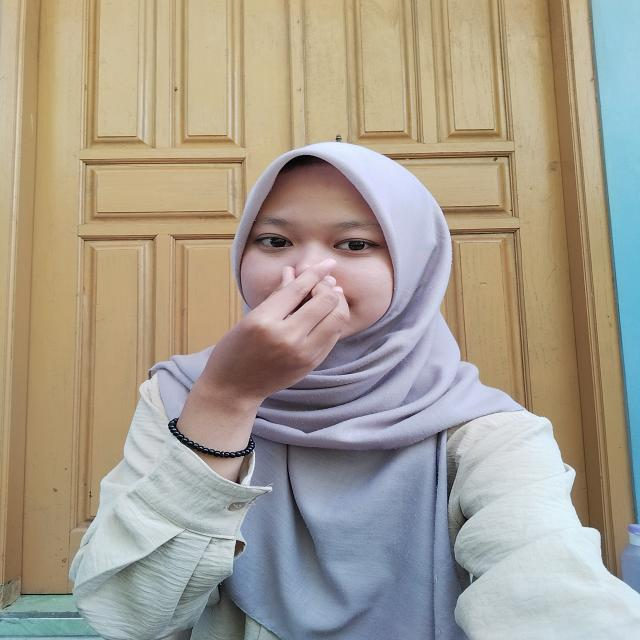bau: (179, 262, 365, 416)
